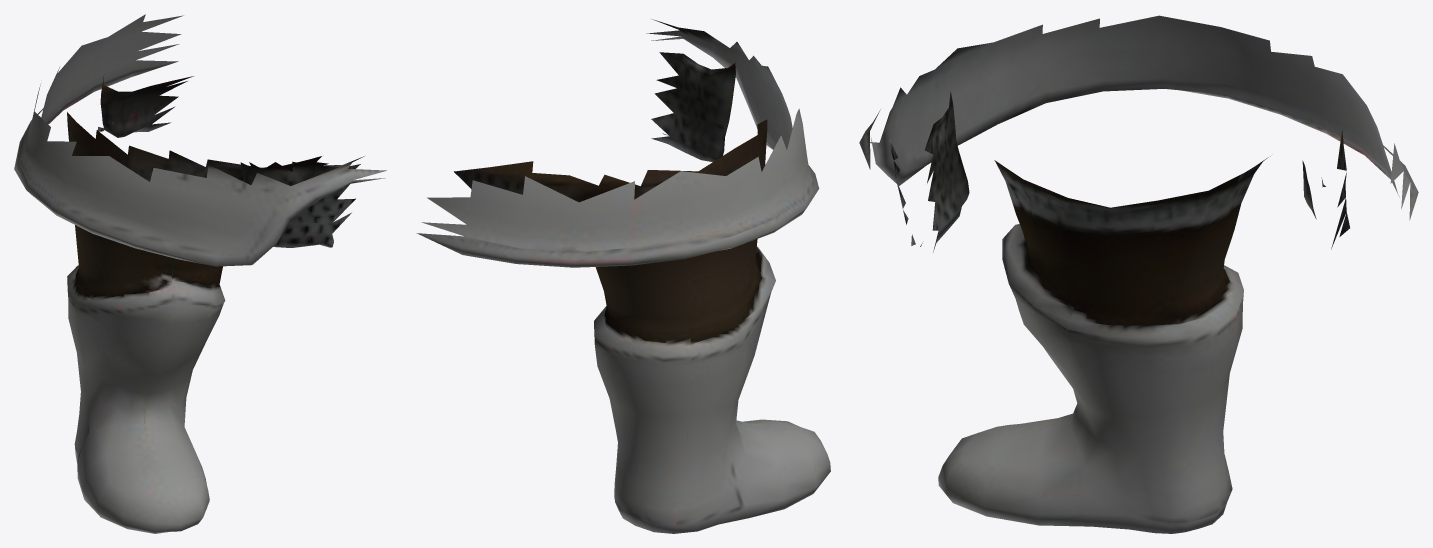
The model's file is knight-legR.glb.
3 views of the same model, side by side, from view 1: azimuth 30°, elevation 25°; view 2: azimuth 150°, elevation 25°; view 3: azimuth 270°, elevation 25° (orthographic). The views are drawn at different scales.
Parts seen in each view (by area): view 1: knight-legR; view 2: knight-legR; view 3: knight-legR.
Boxes of the visible parts, x1=… form: knight-legR: x1=14, y1=14, x2=386, y2=533; knight-legR: x1=416, y1=19, x2=830, y2=533; knight-legR: x1=859, y1=15, x2=1418, y2=533.
Size of the model in its own units: 0.2383 by 0.331 by 0.3647.
1 material, 1 textured.
